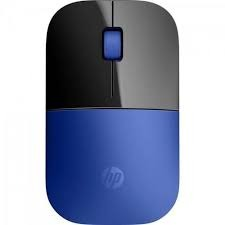mouse: (42, 0, 179, 223)
